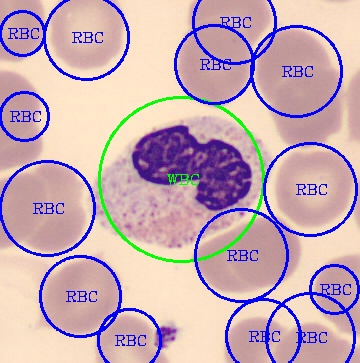Platelets: (151, 317, 184, 352)
RBC: (36, 253, 124, 335), (175, 18, 252, 110), (273, 148, 354, 229), (21, 159, 88, 254), (270, 66, 344, 150), (254, 26, 334, 102), (48, 0, 127, 73), (229, 214, 304, 289), (190, 221, 257, 294), (0, 68, 43, 172), (187, 0, 273, 46), (311, 251, 358, 335), (93, 313, 174, 361), (0, 170, 46, 250), (270, 320, 358, 361), (221, 313, 288, 361), (0, 0, 46, 63)
WBC: (87, 117, 270, 246)
